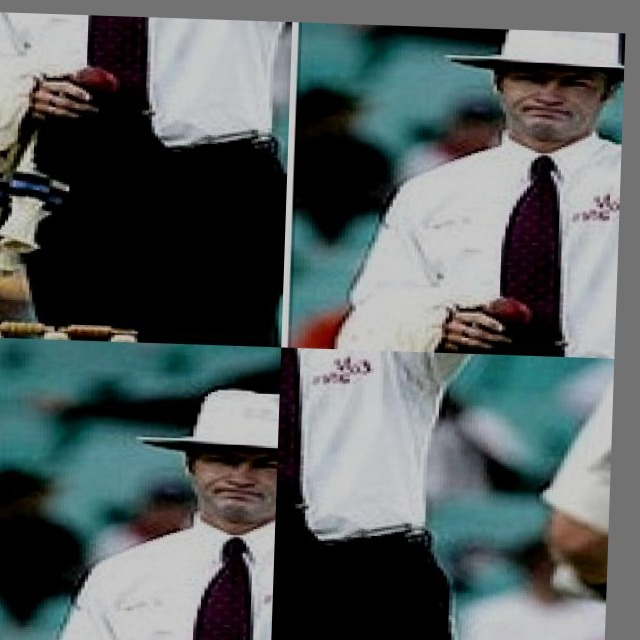Out: (271, 347, 501, 640)
Wide: (284, 22, 625, 280), (0, 483, 276, 640)
